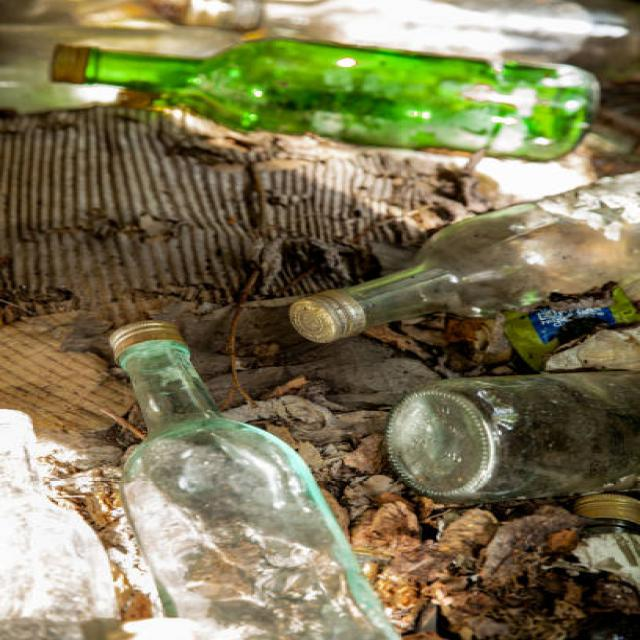electronic: (42, 34, 640, 640)
